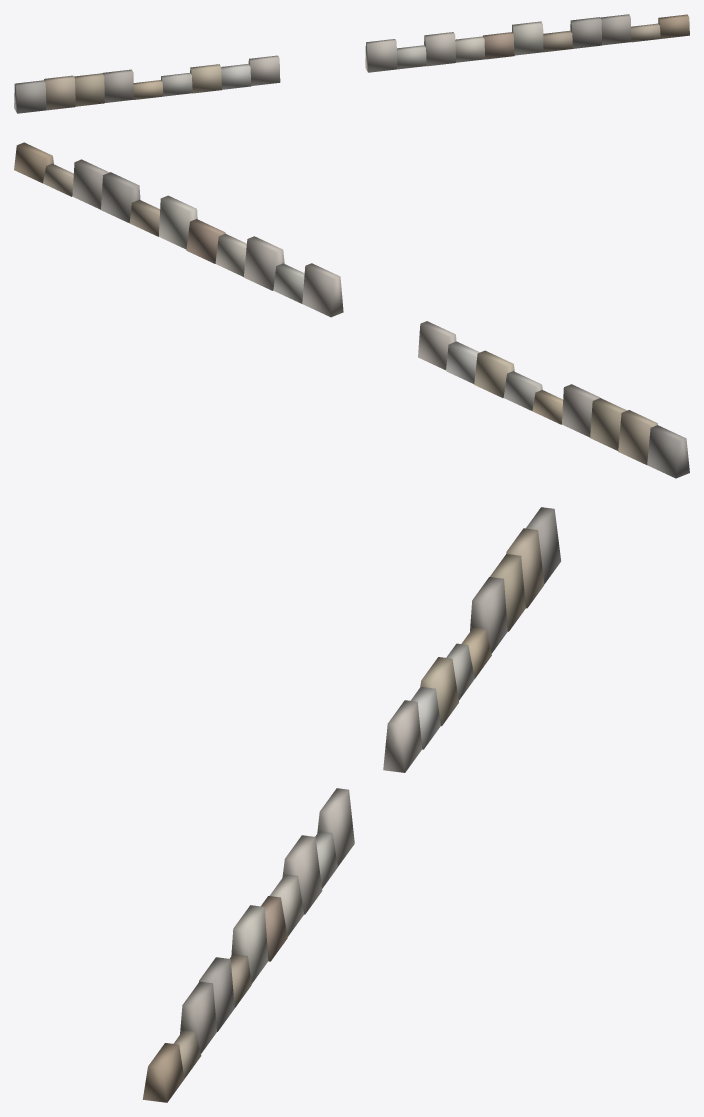
The model's file is farm_-29_-22_collision.glb.
3 views of the same model, one above another, from view 1: azimuth 30°, elevation 25°; view 2: azimuth 150°, elevation 25°; view 3: azimuth 270°, elevation 25° (orthographic). The views are drawn at different scales.
Visible parts, largest first — view 1: geometry_0; view 2: geometry_0; view 3: geometry_0.
Boxes of the visible parts, <box> form: geometry_0: <box>14,14,689,113</box>; geometry_0: <box>14,142,689,478</box>; geometry_0: <box>142,507,560,1102</box>.
Size of the model in its own units: 34.86 by 1.99 by 10.93.
